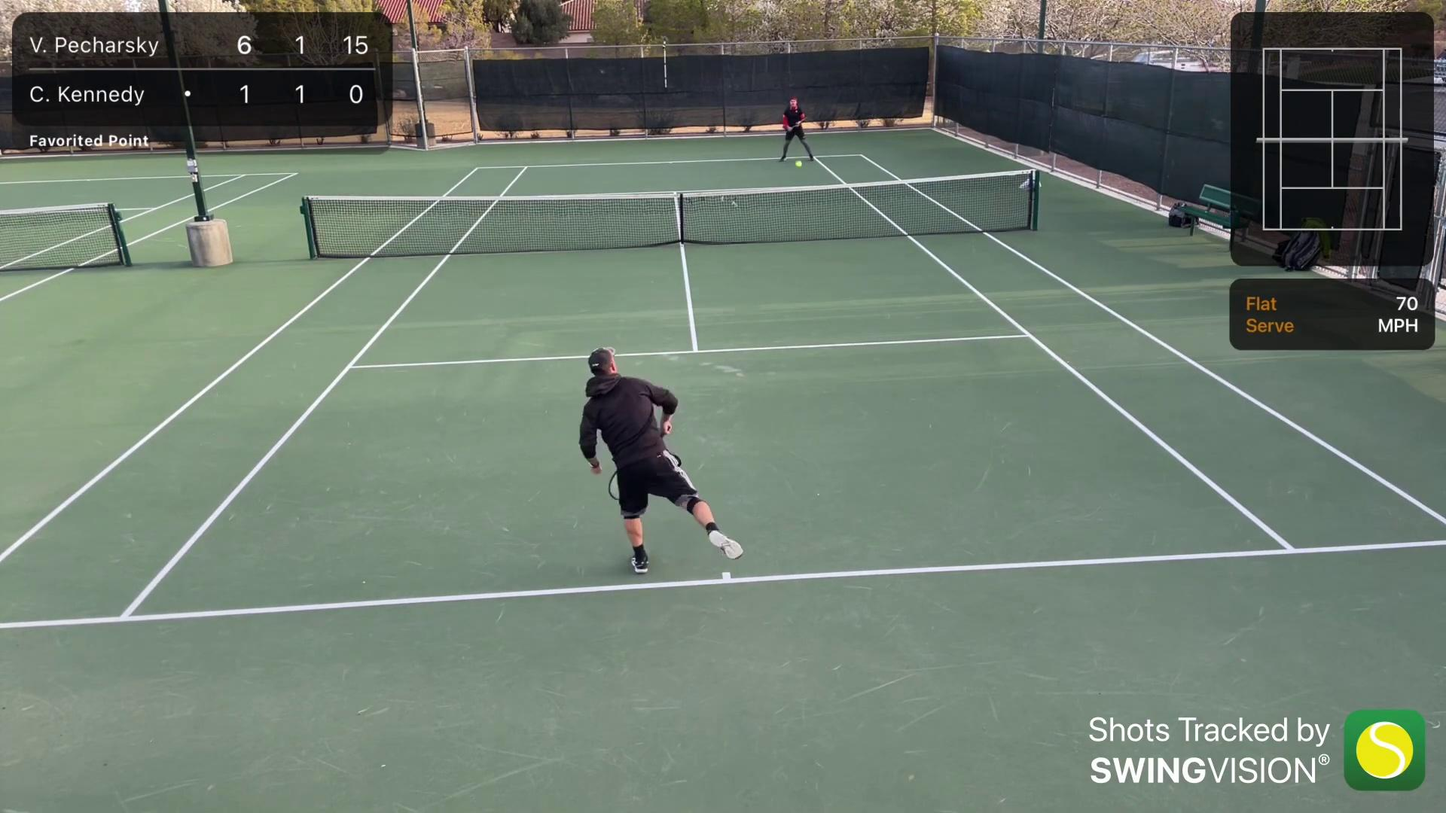ball: (793, 160, 803, 168)
